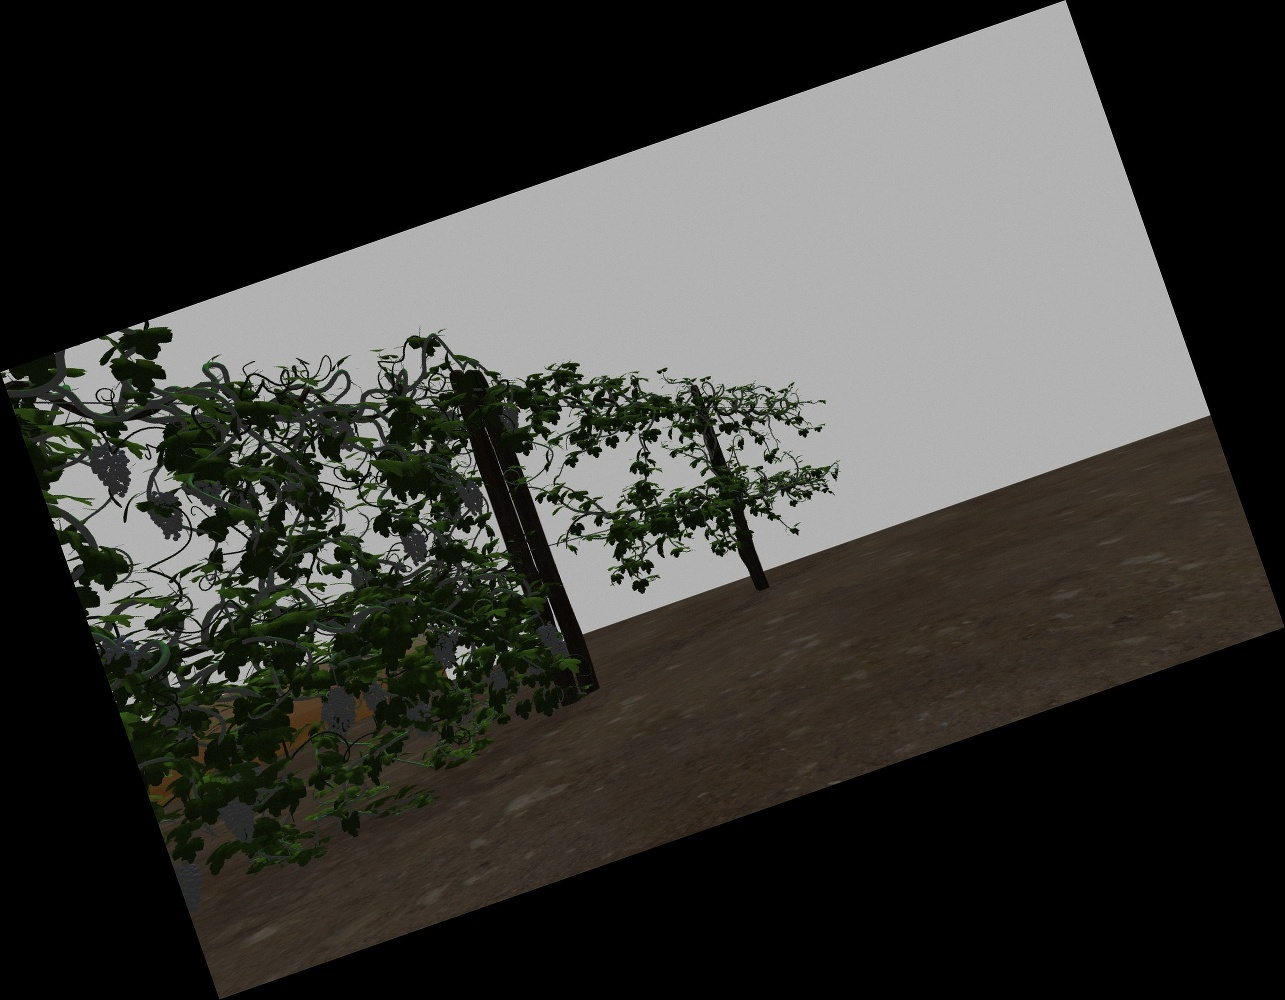grape: (92, 442, 132, 496), (220, 792, 257, 844), (149, 491, 184, 541), (181, 859, 207, 908), (402, 525, 426, 566), (332, 687, 357, 726), (410, 702, 435, 740), (432, 632, 455, 669), (460, 480, 484, 515), (363, 681, 387, 712), (485, 664, 508, 691), (500, 406, 522, 431), (539, 624, 558, 651), (552, 643, 569, 662)
